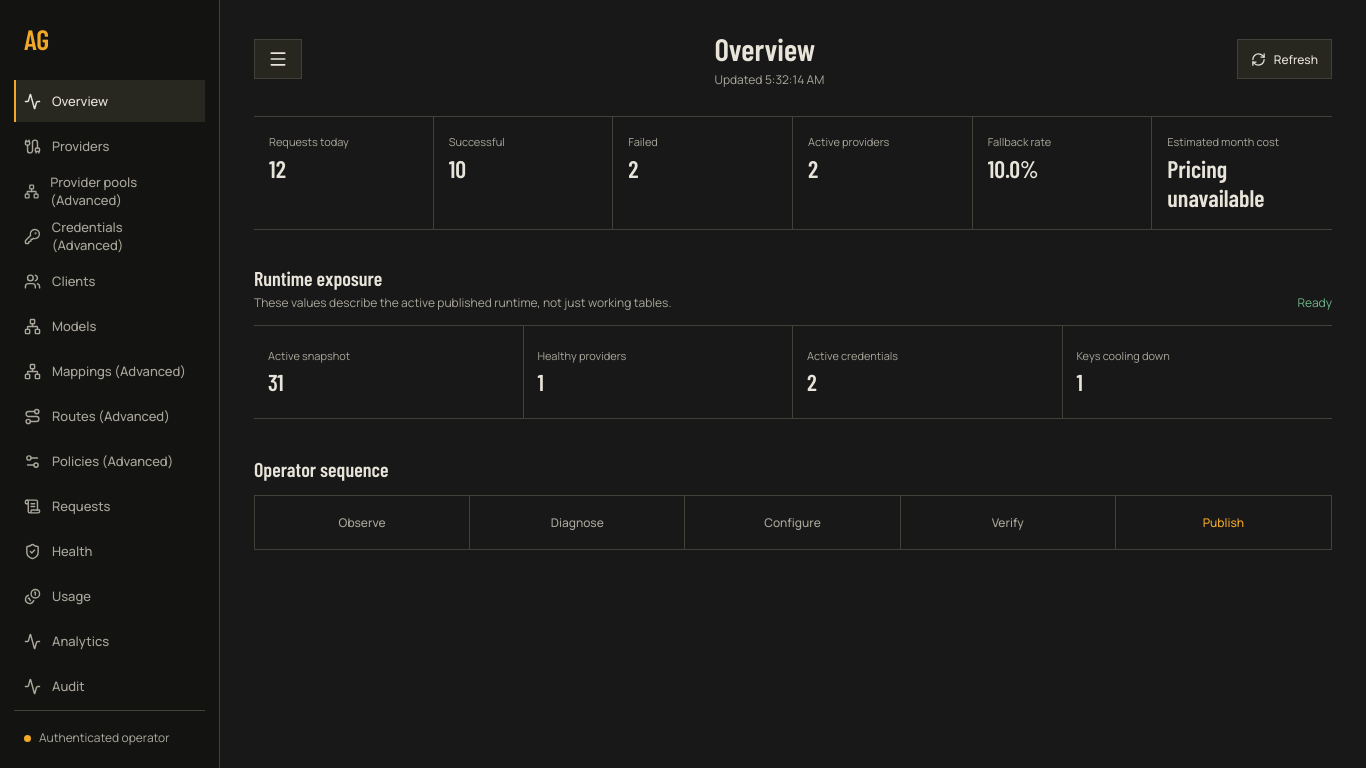
Scenario: control plane › says so when nothing was eligible
Click the button "Requests" at [110, 506], box [14,485,205,527]
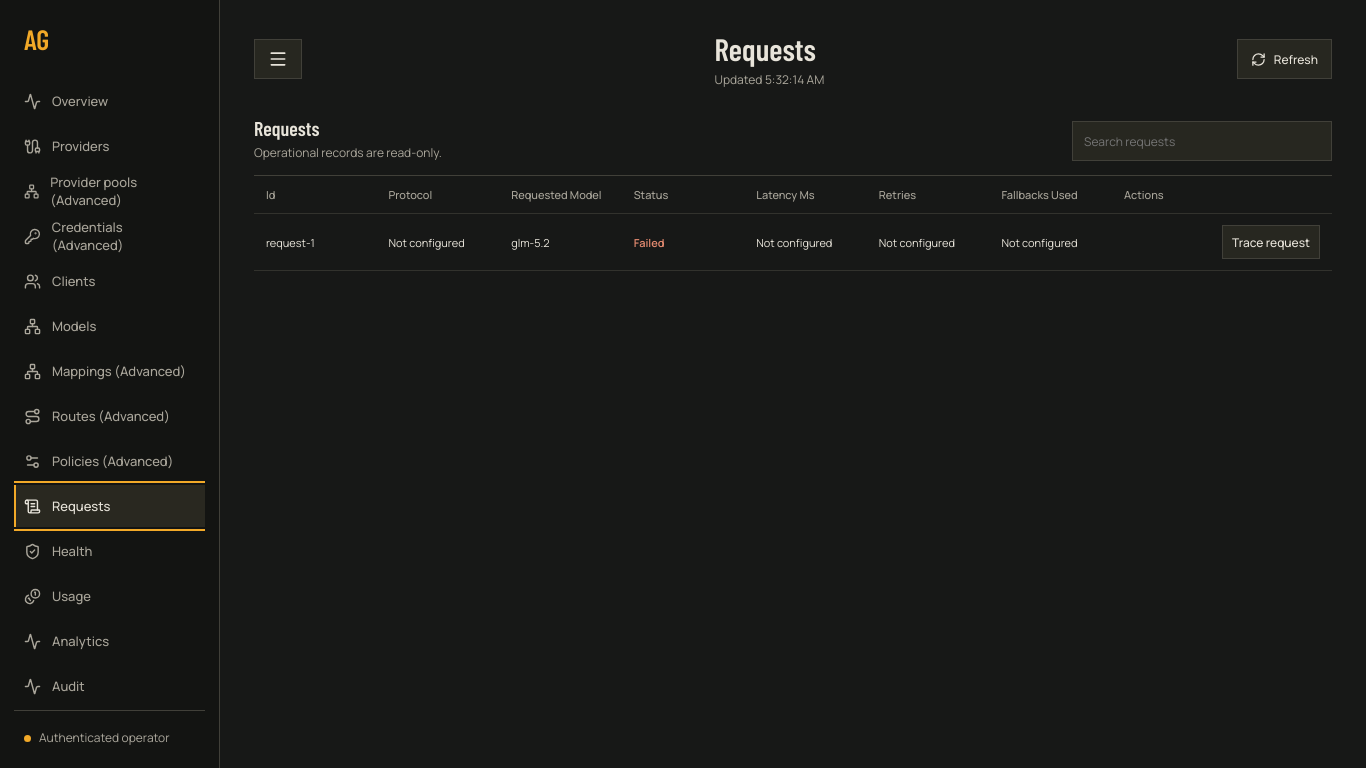
Click the button "Trace request" at [1271, 242], box [1222,225,1320,259]
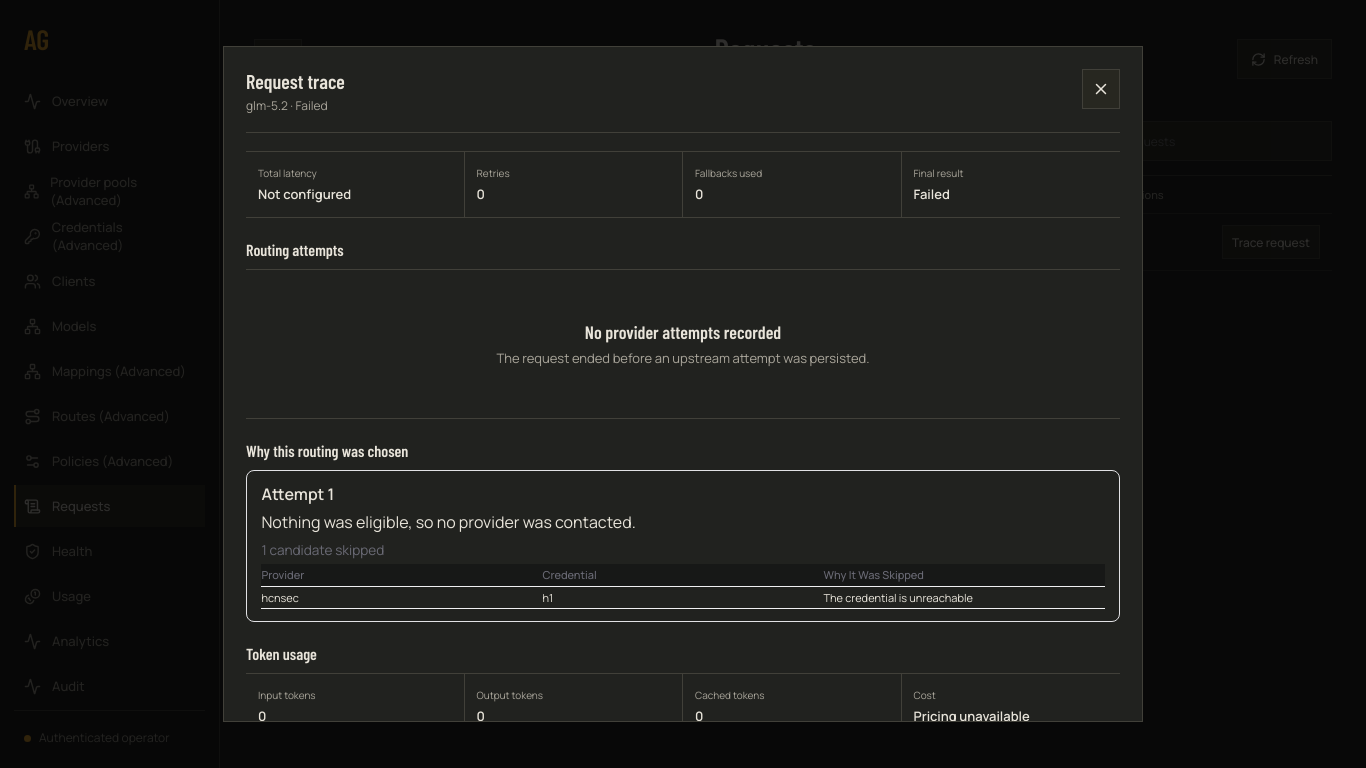
Check: the text "Nothing was eligible, so no provider was contacted." is shown, box [261,512,636,534]
Check: the text "The credential is unreachable" is shown, box [824,586,1105,608]
